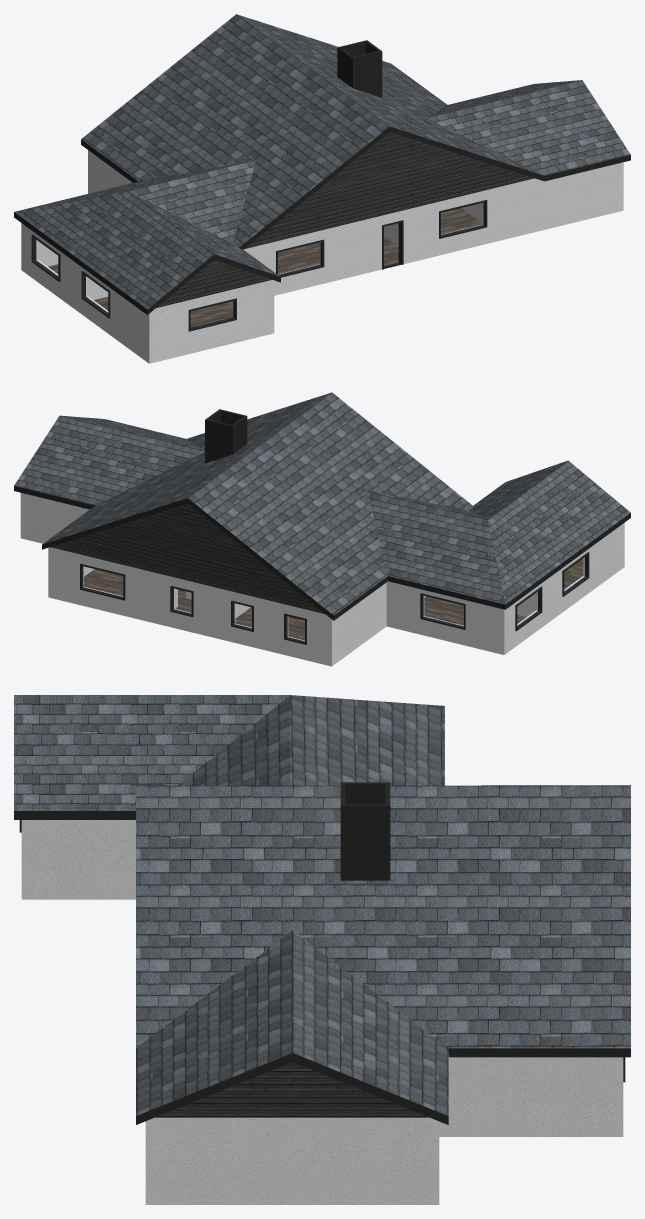
File: Kamppa1 (3).fbx
3 renders of one model, top to bottom at view 1: azimuth 30°, elevation 25°; view 2: azimuth 150°, elevation 25°; view 3: azimuth 270°, elevation 25°, orthographic. The views are drawn at different scales.
Parts seen in each view (by area): view 1: Kämppä, KämpänLattia; view 2: Kämppä, KämpänLattia; view 3: Kämppä.
Boxes of the visible parts, left/top/right/bottom form: Kämppä: left=14, top=14, right=630, bottom=363; KämpänLattia: left=48, top=208, right=482, bottom=327; Kämppä: left=14, top=392, right=630, bottom=666; KämpänLattia: left=84, top=559, right=582, bottom=640; Kämppä: left=14, top=695, right=630, bottom=1204.
Bounding box in the file's own units: 2372 × 3733 × 1089.
